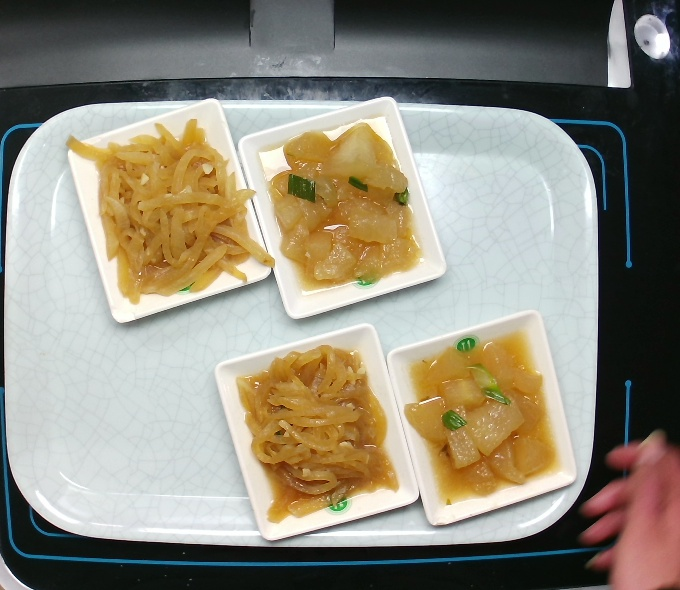wcq-DongGua: (249, 107, 429, 298), (398, 323, 568, 512)
wcq-LuoBoSi: (60, 112, 280, 311), (230, 342, 405, 527)
